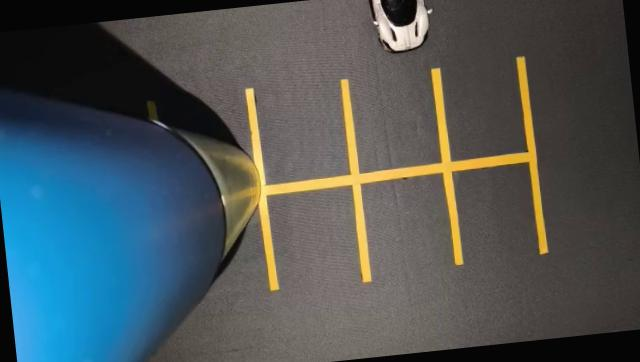toy_car: (250, 0, 475, 84)
